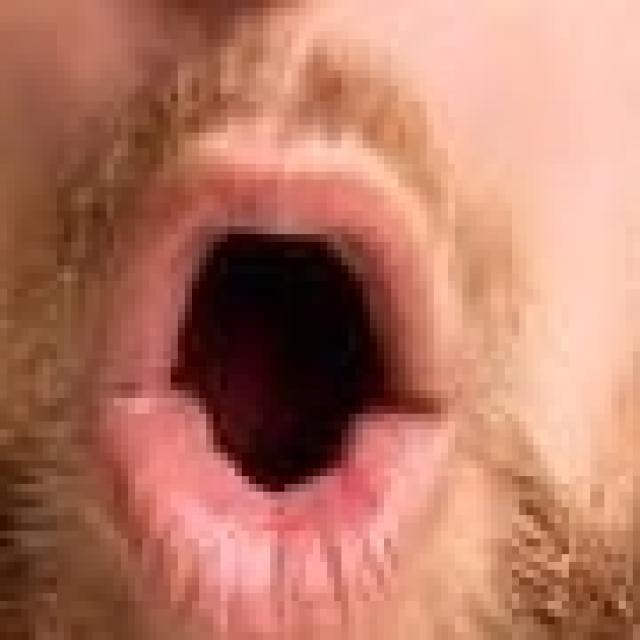open-mouth: (71, 150, 468, 632)
